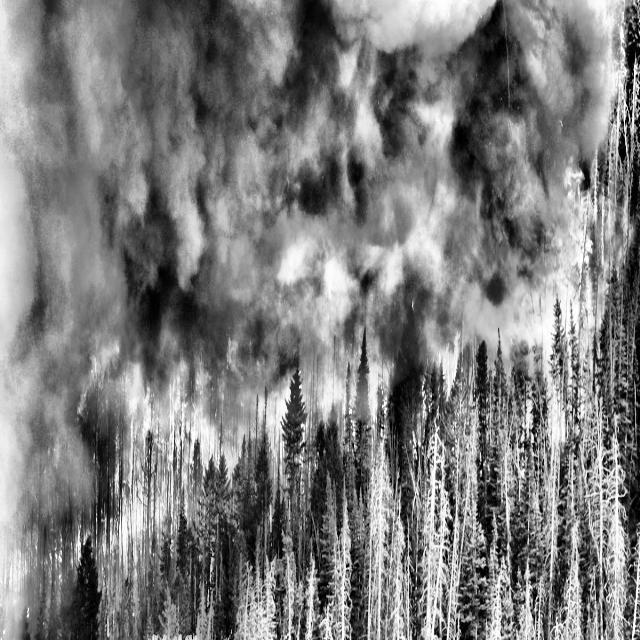fire: (14, 318, 554, 640), (430, 108, 638, 530)
